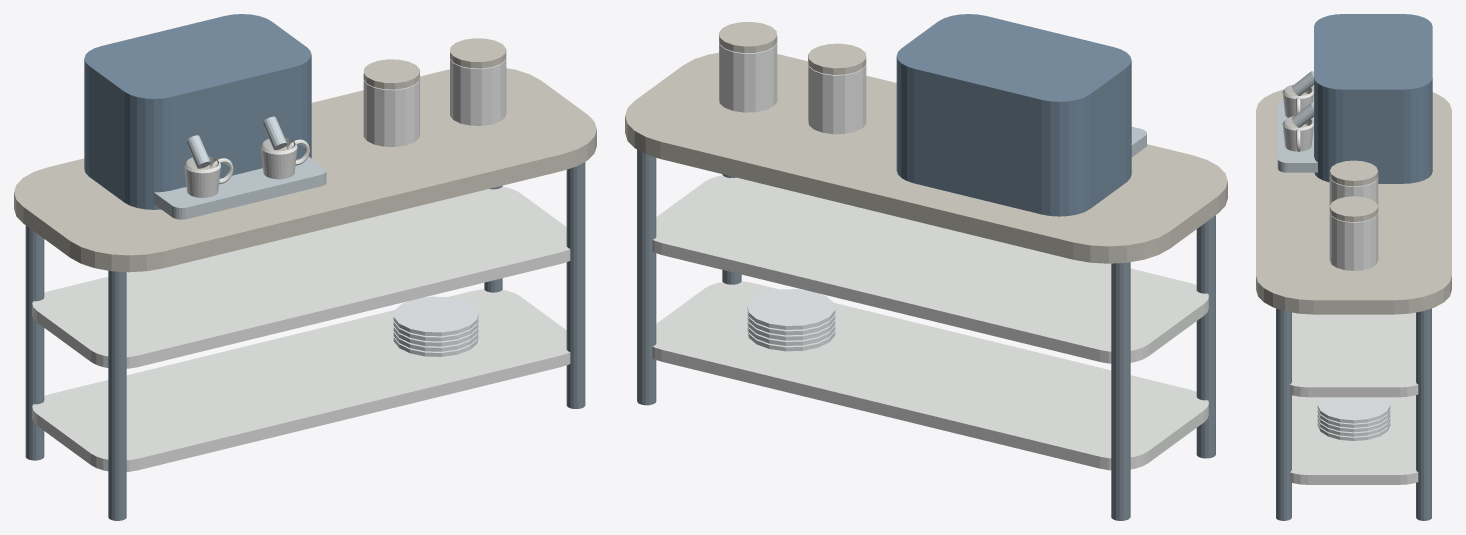
The model's file is restaurant_coffee_station.glb.
3 views of the same model, side by side, from view 1: azimuth 30°, elevation 25°; view 2: azimuth 150°, elevation 25°; view 3: azimuth 270°, elevation 25° (orthographic). The views are drawn at different scales.
Visible parts, largest first — view 1: decor_d8dcd8_matte, decor_aaa493_matte, decor_354d66_matte, decor_455665_metal, decor_9aadb8_metal, decor_d4dfe3_matte; view 2: decor_d8dcd8_matte, decor_aaa493_matte, decor_354d66_matte, decor_455665_metal, decor_d4dfe3_matte; view 3: decor_aaa493_matte, decor_d8dcd8_matte, decor_354d66_matte, decor_455665_metal, decor_d4dfe3_matte, decor_9aadb8_metal.
Boxes of the visible parts, x1=… form: decor_d8dcd8_matte: x1=32, y1=56, x2=570, y2=471; decor_aaa493_matte: x1=14, y1=38, x2=596, y2=272; decor_354d66_matte: x1=84, y1=14, x2=311, y2=209; decor_455665_metal: x1=25, y1=162, x2=585, y2=520; decor_9aadb8_metal: x1=154, y1=116, x2=326, y2=219; decor_d4dfe3_matte: x1=393, y1=296, x2=478, y2=356; decor_d8dcd8_matte: x1=652, y1=41, x2=1208, y2=470; decor_aaa493_matte: x1=625, y1=22, x2=1227, y2=263; decor_354d66_matte: x1=896, y1=14, x2=1131, y2=216; decor_455665_metal: x1=637, y1=149, x2=1215, y2=520; decor_d4dfe3_matte: x1=747, y1=289, x2=835, y2=351; decor_aaa493_matte: x1=1256, y1=85, x2=1451, y2=314; decor_d8dcd8_matte: x1=1282, y1=84, x2=1418, y2=484; decor_354d66_matte: x1=1314, y1=14, x2=1432, y2=183; decor_455665_metal: x1=1276, y1=308, x2=1431, y2=520; decor_d4dfe3_matte: x1=1317, y1=397, x2=1390, y2=440; decor_9aadb8_metal: x1=1277, y1=71, x2=1317, y2=172.
Bounding box in the file's own units: 2.1 × 1.51 × 0.81.
